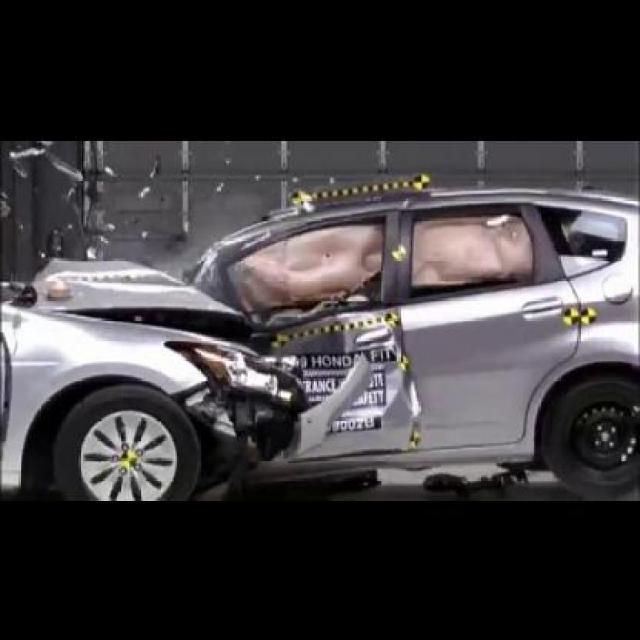accident: (1, 172, 638, 498)
